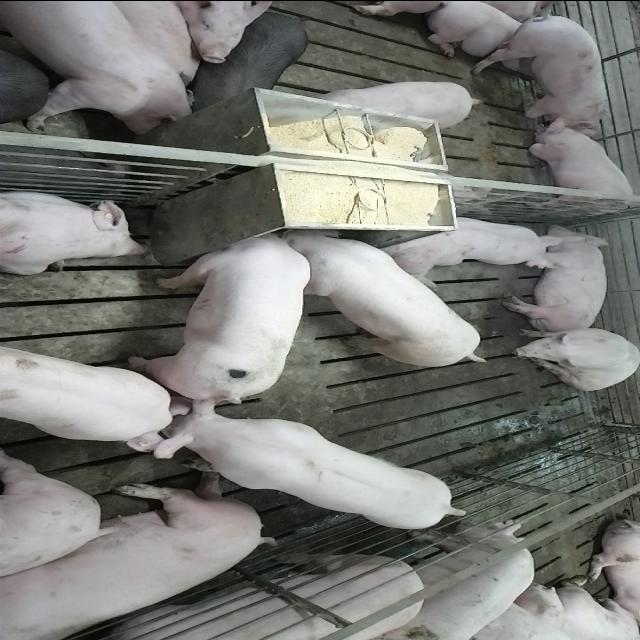Feeding: (126, 221, 312, 396), (282, 228, 494, 370)
Lateral_lying: (501, 223, 614, 333)
Sitting: (516, 122, 640, 218), (503, 325, 637, 389)
Standing: (142, 393, 468, 530), (59, 550, 433, 640), (0, 1, 196, 135), (1, 339, 172, 450), (384, 523, 540, 640), (476, 14, 614, 130), (193, 11, 310, 106), (316, 78, 486, 128)
Sternal_lying: (0, 186, 150, 274), (376, 210, 564, 278), (428, 1, 558, 77)
